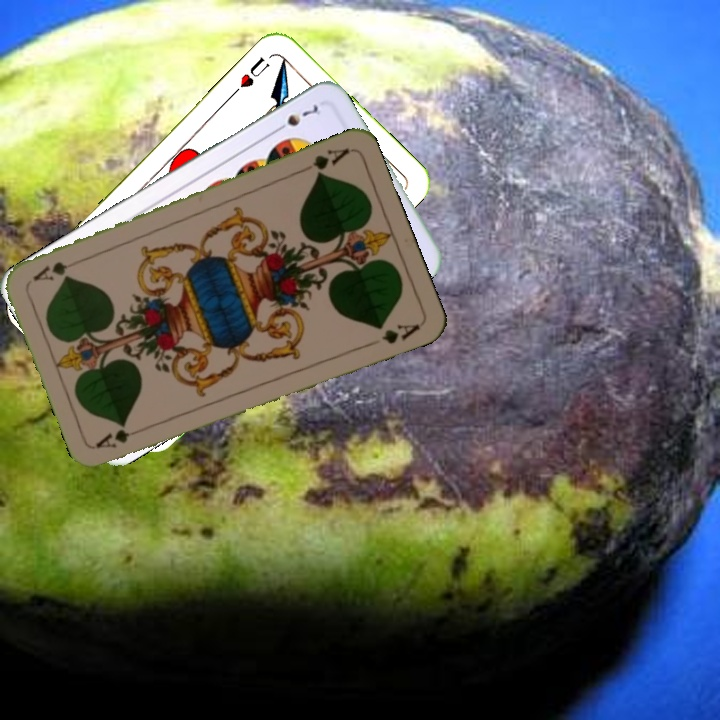GA: (296, 144, 352, 179), (93, 422, 150, 451)
HU: (228, 52, 272, 98)
S7: (270, 101, 323, 135)
